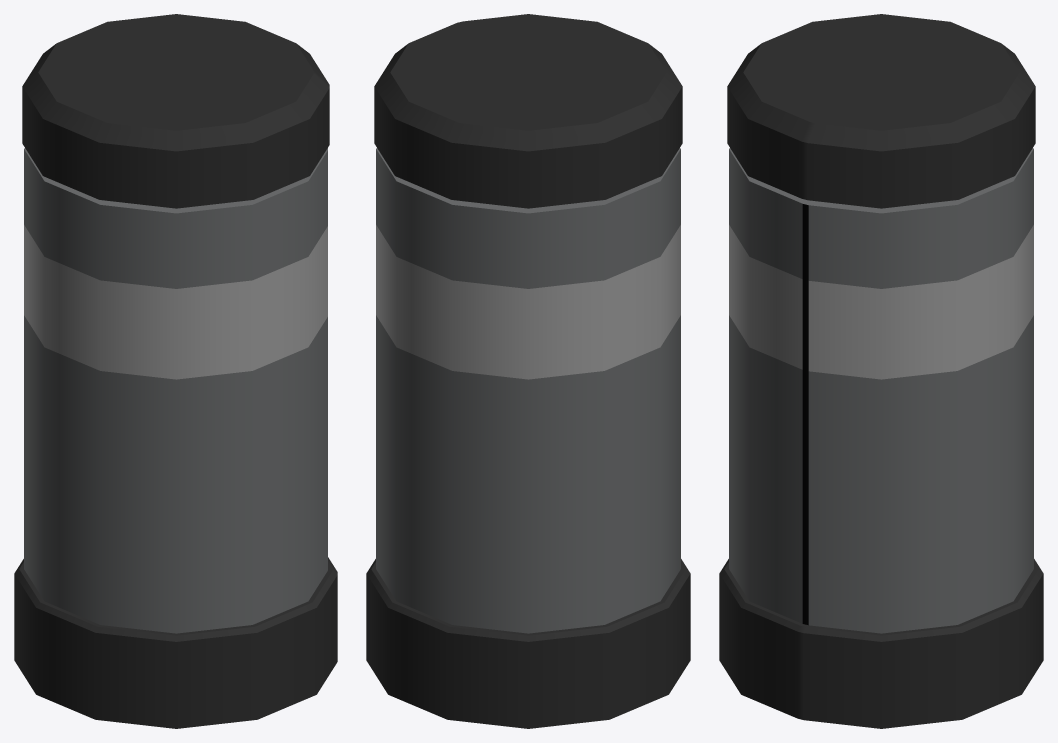
File: GarbageCan_01.fbx
The picture shows the model from 3 angles, left to right: view 1: azimuth 30°, elevation 25°; view 2: azimuth 150°, elevation 25°; view 3: azimuth 270°, elevation 25°; orthographic projection.
Visible parts, largest first — view 1: pCylinder1; view 2: pCylinder1; view 3: pCylinder1.
Boxes of the visible parts, box(x1,y1,x2,y2) form: pCylinder1: box(14, 14, 337, 728); pCylinder1: box(366, 14, 690, 728); pCylinder1: box(719, 14, 1043, 728).
Bounding box in the file's own units: 37.99 × 76.03 × 37.99.
